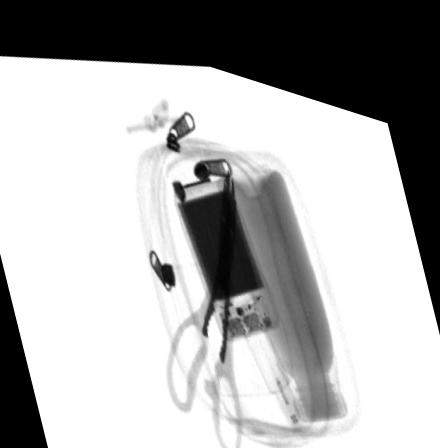Powerbank: (169, 157, 281, 324)
Scissors: (165, 149, 245, 447)
